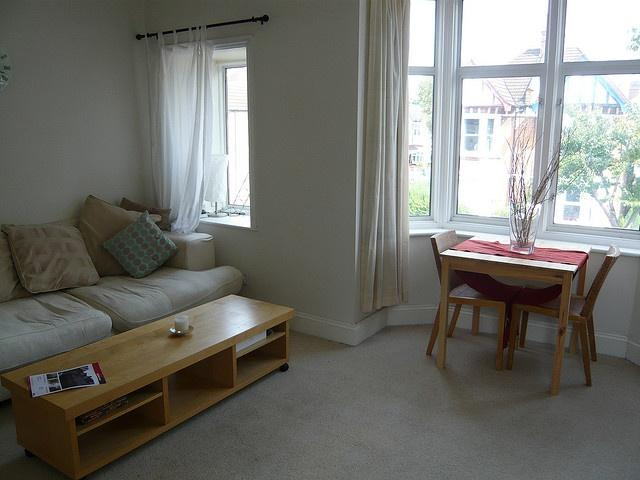Kursi: (502, 243, 619, 386)
Meja: (433, 231, 591, 397)
